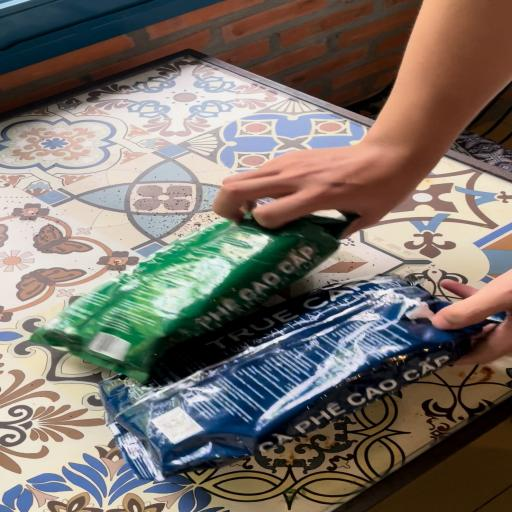cafe_hat: (101, 274, 504, 482)
cafe_xay: (31, 214, 355, 381)
